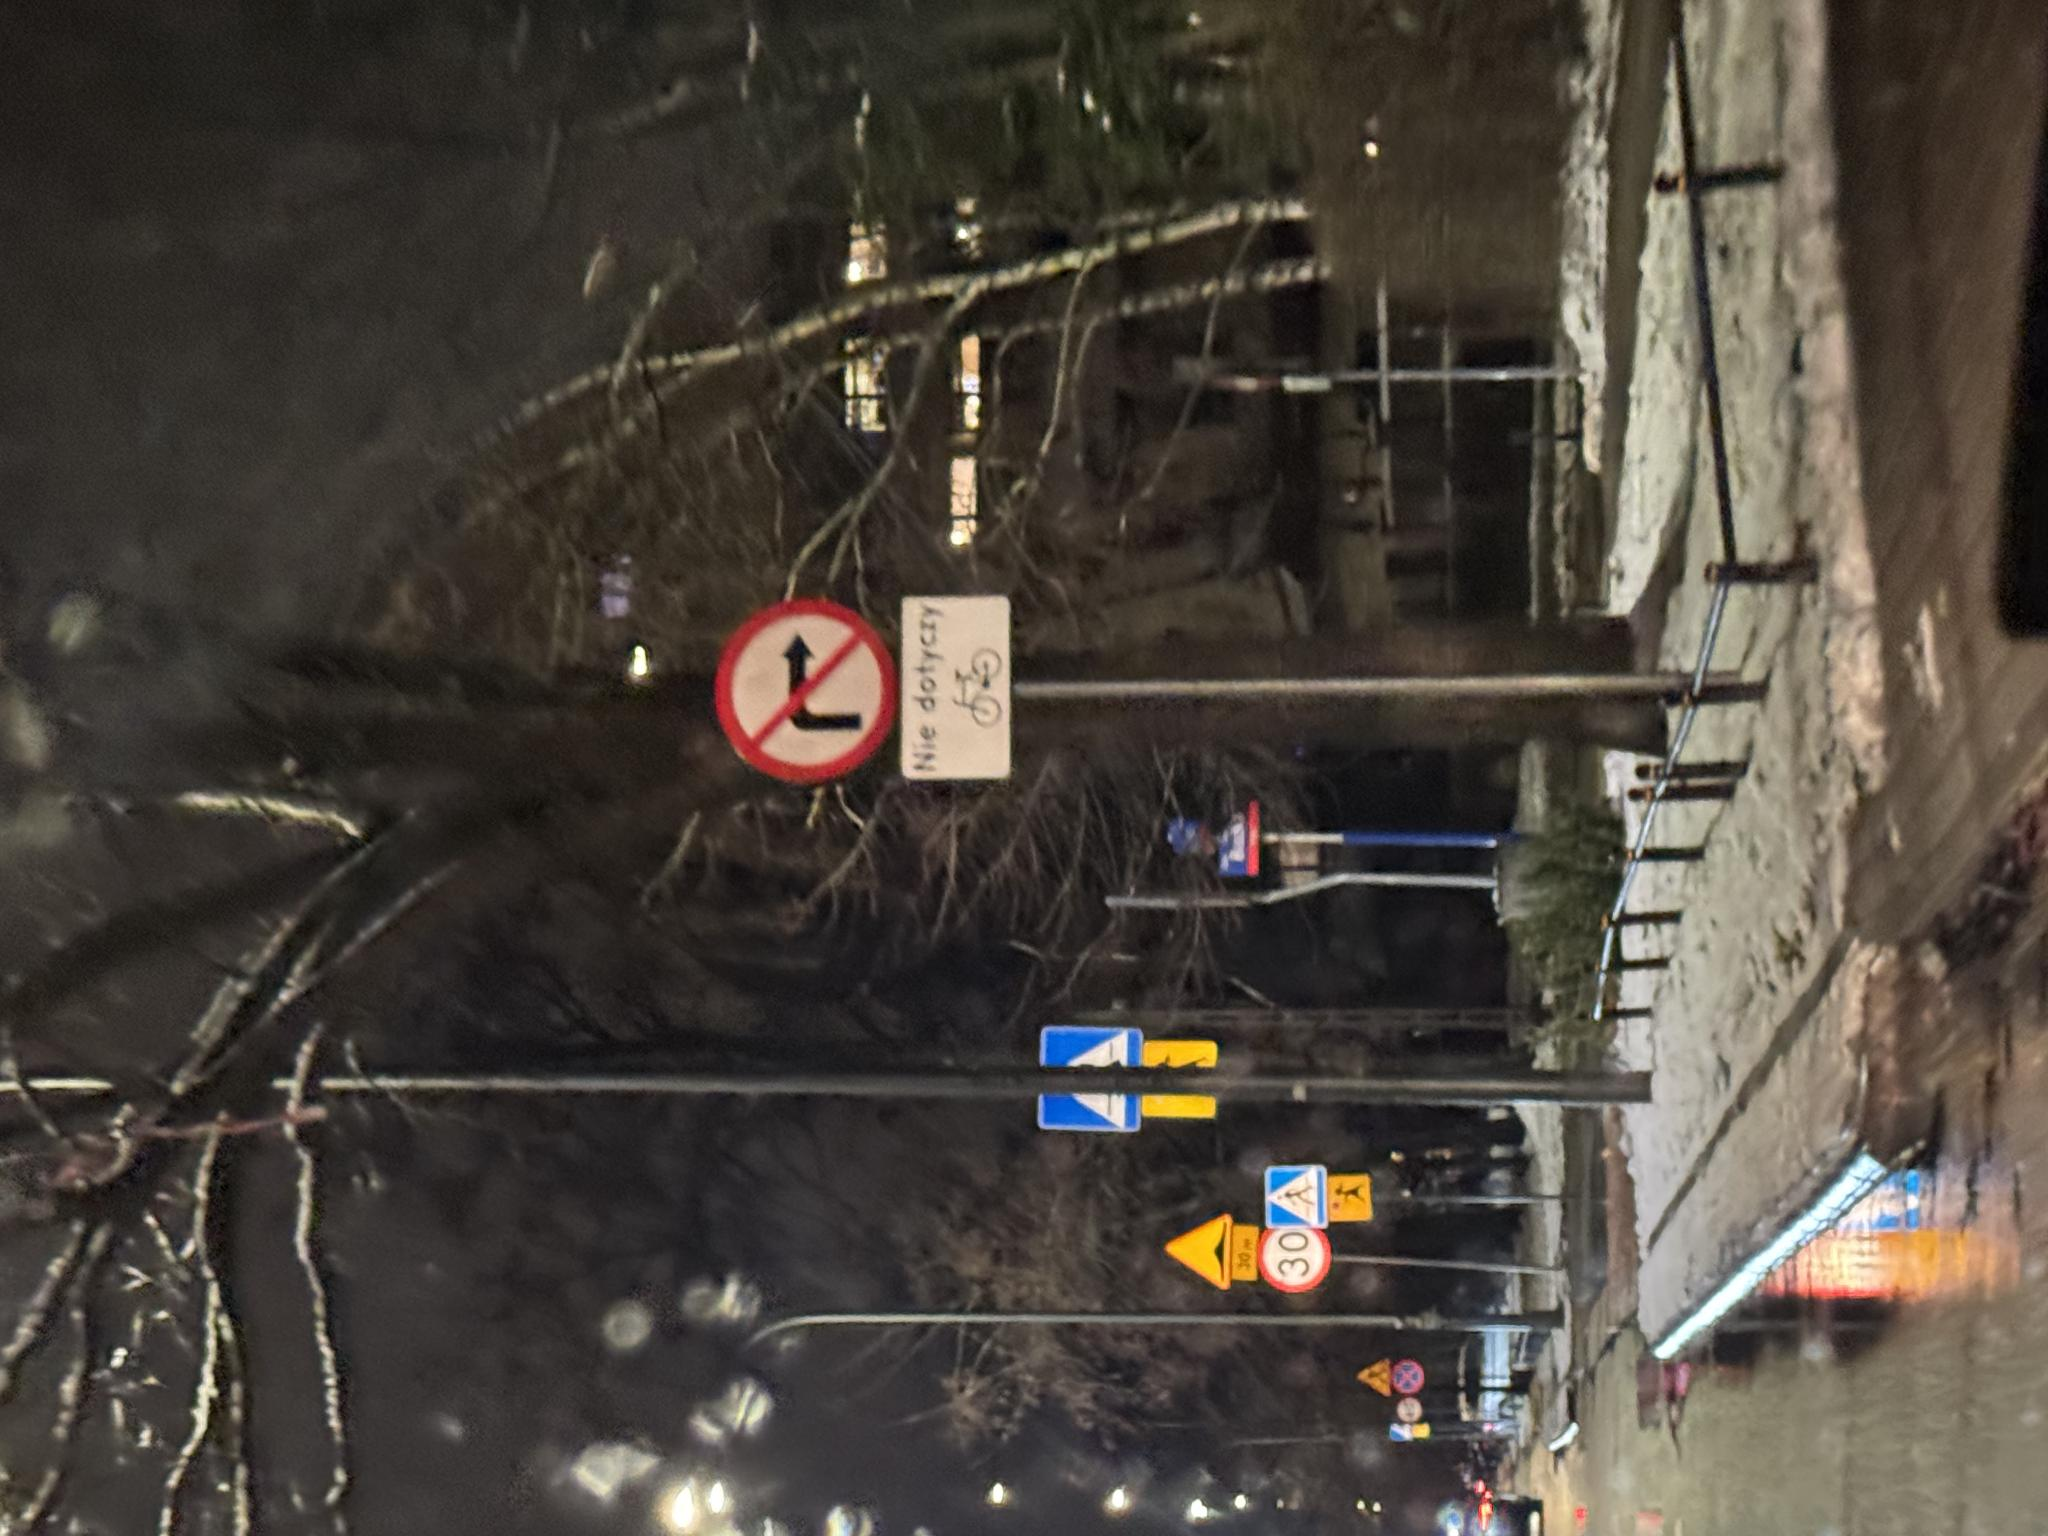information: (464, 1041, 513, 1144), (308, 1263, 373, 1328), (405, 1034, 442, 1141)
other: (311, 1328, 364, 1376)
prohibitory: (748, 712, 943, 897), (240, 1257, 310, 1333), (142, 1392, 176, 1425), (113, 1397, 139, 1423)
warning: (242, 1162, 326, 1231), (139, 1355, 179, 1392)
